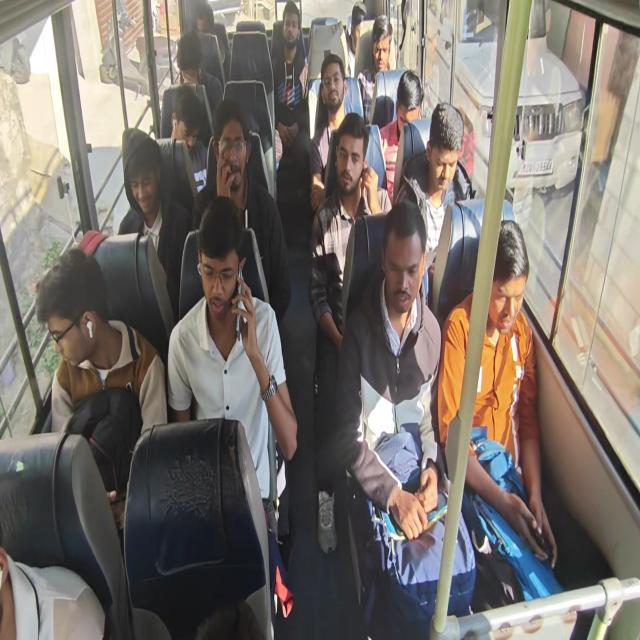person: (34, 2, 562, 636), (332, 200, 476, 638), (166, 196, 298, 538), (437, 218, 558, 569), (35, 246, 168, 551), (308, 111, 393, 554), (191, 99, 291, 323), (393, 101, 471, 306), (117, 126, 190, 322), (0, 546, 106, 639), (273, 2, 311, 206), (309, 53, 350, 213), (157, 84, 209, 208), (378, 69, 424, 199), (357, 14, 395, 123), (175, 31, 223, 112), (192, 0, 230, 83), (345, 1, 367, 76)
